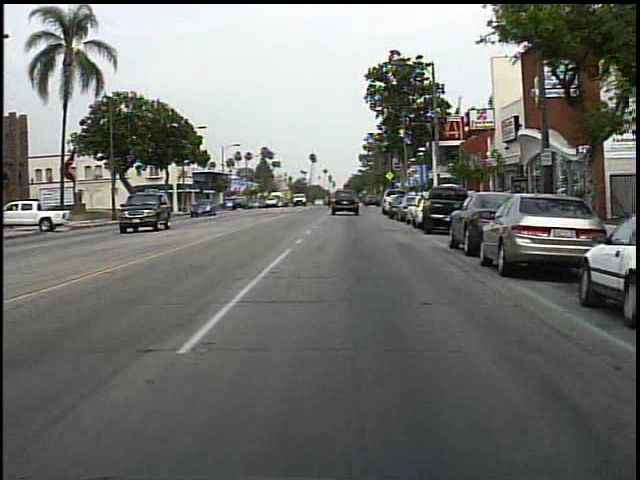person: (327, 191, 335, 216)
